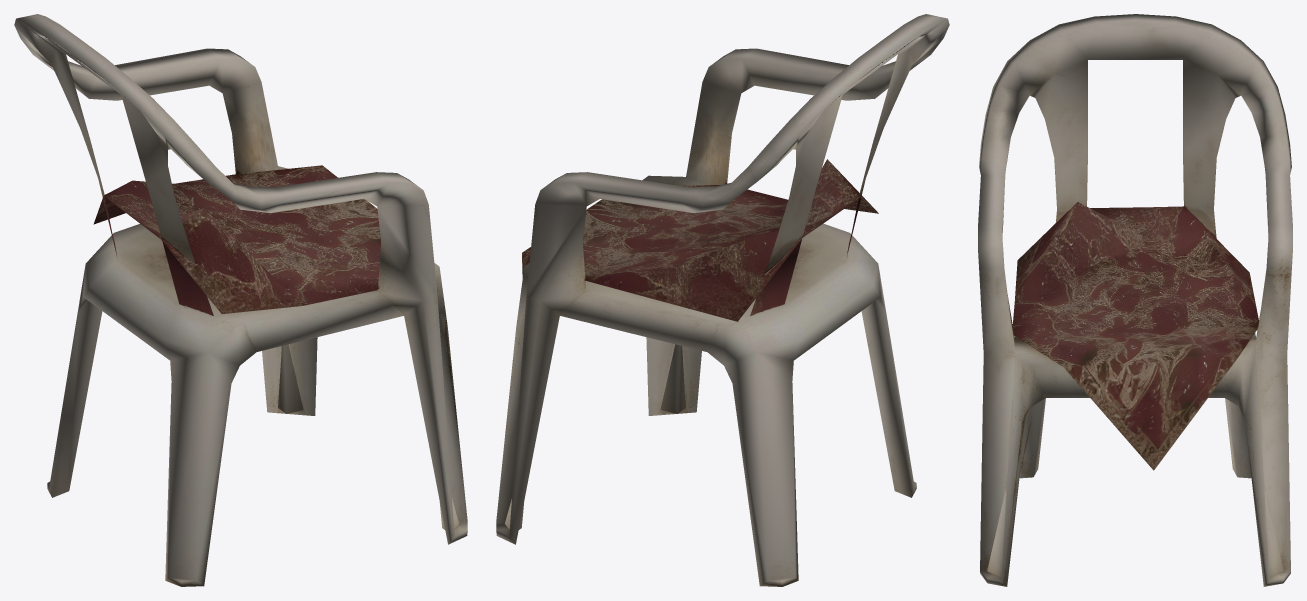
Rendered from Mom Chair.fbx.
The picture shows the model from 3 angles, left to right: view 1: azimuth 30°, elevation 25°; view 2: azimuth 150°, elevation 25°; view 3: azimuth 270°, elevation 25°; orthographic projection. The views are drawn at different scales.
Visible parts, largest first — view 1: tripo_node_76288b19-a4e6-4550-b785-f5dba74ce878; view 2: tripo_node_76288b19-a4e6-4550-b785-f5dba74ce878; view 3: tripo_node_76288b19-a4e6-4550-b785-f5dba74ce878.
Boxes of the visible parts, left/top/right/bottom form: tripo_node_76288b19-a4e6-4550-b785-f5dba74ce878: left=14, top=14, right=467, bottom=586; tripo_node_76288b19-a4e6-4550-b785-f5dba74ce878: left=496, top=14, right=949, bottom=586; tripo_node_76288b19-a4e6-4550-b785-f5dba74ce878: left=978, top=14, right=1292, bottom=586.
Size of the model in its own units: 75.98 by 99.8 by 65.43.
Materials: 1 (1 with a texture image).
